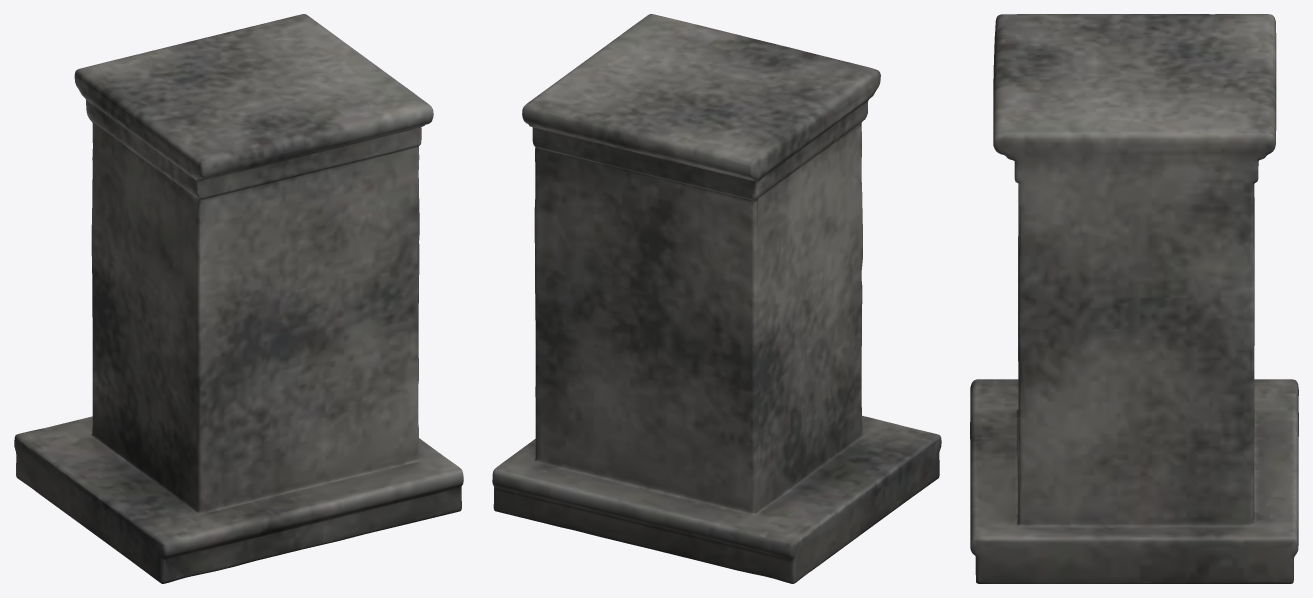
Rendered from ancient-granite-balcony-v002.glb.
3 renders of one model, left to right at view 1: azimuth 30°, elevation 25°; view 2: azimuth 150°, elevation 25°; view 3: azimuth 270°, elevation 25°, orthographic. The views are drawn at different scales.
Parts seen in each view (by area): view 1: ancient-granite-balcony; view 2: ancient-granite-balcony; view 3: ancient-granite-balcony.
Boxes of the visible parts, x1,y1,x2,y2 form: ancient-granite-balcony: (14,14,463,583); ancient-granite-balcony: (492,14,941,583); ancient-granite-balcony: (970,14,1298,583).
Bounding box in the file's own units: 0.8351 × 1.07 × 0.7235.
1 material, 1 textured.
